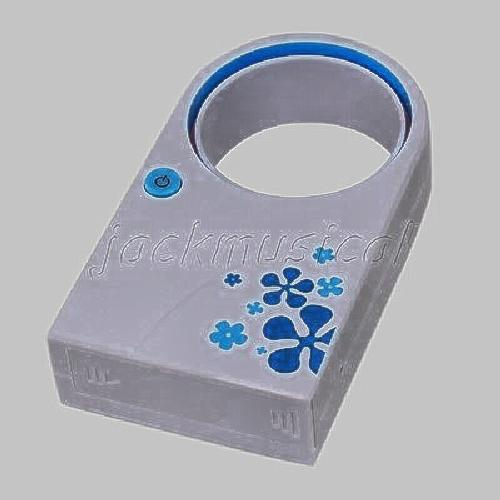fan: (99, 44, 434, 430)
